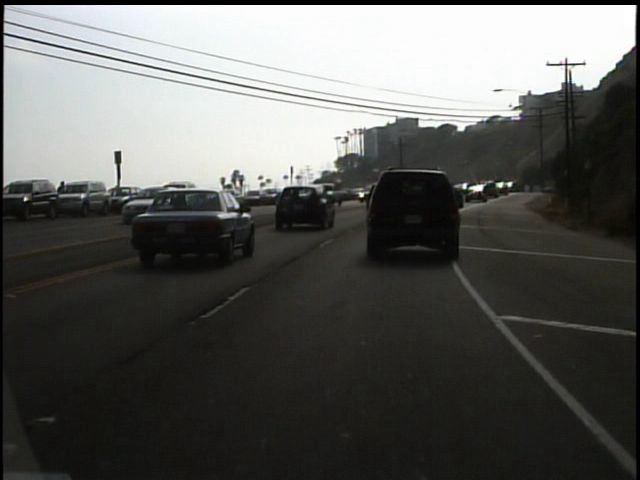person: (58, 178, 76, 194)
